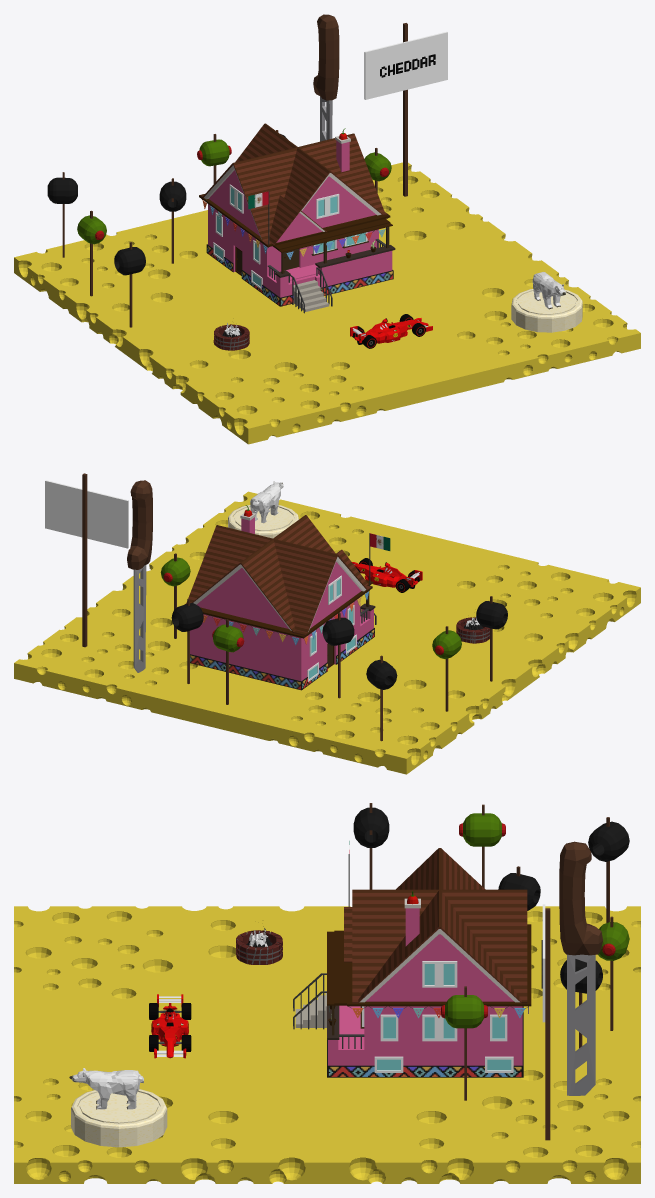
3 views of the same model, one above another, from view 1: azimuth 30°, elevation 25°; view 2: azimuth 150°, elevation 25°; view 3: azimuth 270°, elevation 25° (orthographic). The views are drawn at different scales.
Parts seen in each view (by area): view 1: Cube.022, Cube.1005, Cube.023, Cylinder.016, Cube.024, VEHICLES_FORMULA_1, Sphere.017, Sphere.016, Sphere.020, OBJRANDOM_CAMPFIRE, Sphere.018, Sphere.022 (+2 smaller); view 2: Cube.022, Cube.1005, Cube.023, Cube.024, VEHICLES_FORMULA_1, Cylinder.016, Sphere.017, Sphere.020, Sphere.021, Sphere.016, Sphere.018, Sphere.022 (+3 smaller); view 3: Cube.022, Cube.1005, Cube.024, Cylinder.016, VEHICLES_FORMULA_1, Cube.023, ANIMAL_OSO_POLAR, Sphere.019, Sphere.016, OBJRANDOM_CAMPFIRE, Sphere.018, Sphere.017 (+3 smaller).
Boxes of the visible parts, left/top/right/bottom form: Cube.022: left=14, top=162, right=640, bottom=444; Cube.1005: left=199, top=123, right=395, bottom=313; Cube.023: left=364, top=23, right=447, bottom=196; Cylinder.016: left=511, top=289, right=582, bottom=332; Cube.024: left=313, top=14, right=339, bottom=141; VEHICLES_FORMULA_1: left=350, top=314, right=432, bottom=348; Sphere.017: left=114, top=242, right=145, bottom=327; Sphere.016: left=47, top=172, right=77, bottom=257; Sphere.020: left=159, top=178, right=186, bottom=263; OBJRANDOM_CAMPFIRE: left=213, top=323, right=249, bottom=350; Sphere.018: left=77, top=210, right=106, bottom=296; Sphere.022: left=197, top=134, right=231, bottom=183; Cube.022: left=14, top=491, right=640, bottom=774; Cube.1005: left=184, top=505, right=390, bottom=690; Cube.023: left=45, top=473, right=128, bottom=647; Cube.024: left=127, top=480, right=152, bottom=672; VEHICLES_FORMULA_1: left=352, top=558, right=422, bottom=592; Cylinder.016: left=228, top=505, right=298, bottom=538; Sphere.017: left=476, top=596, right=507, bottom=681; Sphere.020: left=322, top=612, right=354, bottom=698; Sphere.021: left=171, top=598, right=203, bottom=683; Sphere.016: left=366, top=655, right=397, bottom=741; Sphere.018: left=432, top=626, right=461, bottom=711; Sphere.022: left=212, top=619, right=244, bottom=704; Cube.022: left=14, top=906, right=640, bottom=1183; Cube.1005: left=293, top=841, right=531, bottom=1077; Cube.024: left=559, top=841, right=602, bottom=1095; Cylinder.016: left=71, top=1089, right=167, bottom=1147; VEHICLES_FORMULA_1: left=149, top=994, right=191, bottom=1058; Cube.023: left=541, top=904, right=550, bottom=1140; ANIMAL_OSO_POLAR: left=69, top=1068, right=143, bottom=1109; Sphere.019: left=441, top=986, right=487, bottom=1100; Sphere.016: left=588, top=817, right=629, bottom=922; OBJRANDOM_CAMPFIRE: left=236, top=926, right=282, bottom=964; Sphere.018: left=459, top=804, right=505, bottom=888; Sphere.017: left=353, top=803, right=389, bottom=889.
Size of the model in its own units: 3917 by 2108 by 4000.
Materials: 72 (5 with a texture image).
